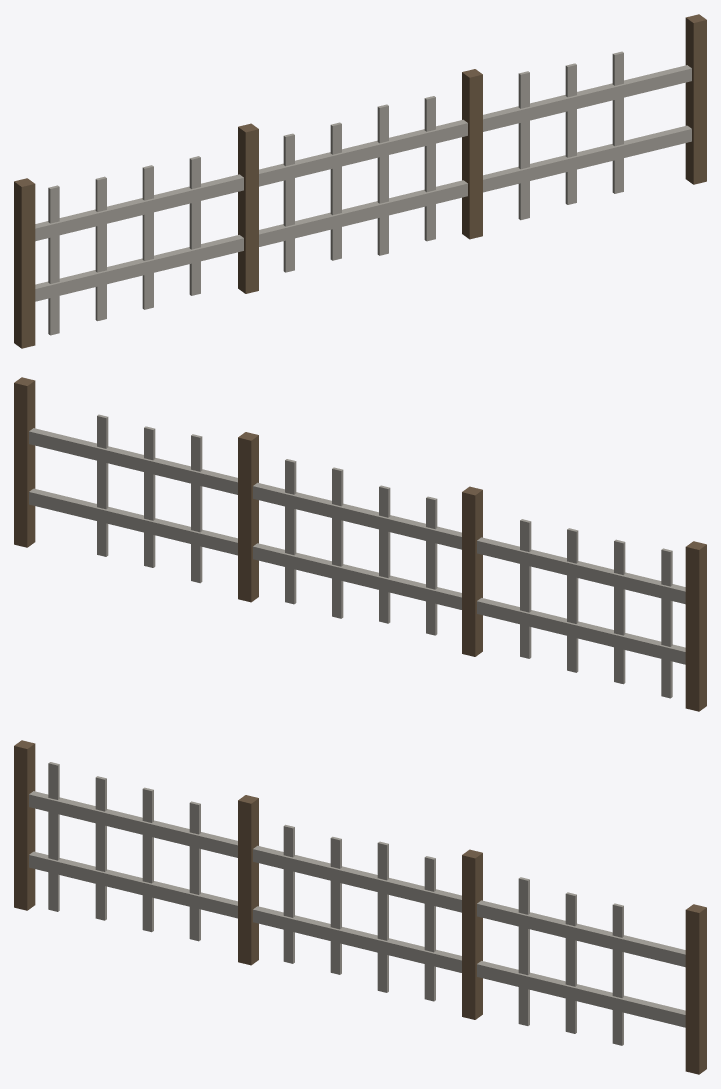
File: LL_Fence_4m.fbx
The picture shows the model from 3 angles, top to bottom: view 1: azimuth 30°, elevation 25°; view 2: azimuth 150°, elevation 25°; view 3: azimuth 330°, elevation 25°; orthographic projection.
Visible parts, largest first — view 1: LL_Fence_Rail_High, LL_Fence_Rail_Low, LL_Fence_Post_0, LL_Fence_Post_3, LL_Fence_Post_1, LL_Fence_Post_2, LL_Fence_Picket_07, LL_Fence_Picket_00, LL_Fence_Picket_10, LL_Fence_Picket_08, LL_Fence_Picket_02, LL_Fence_Picket_01 (+5 smaller); view 2: LL_Fence_Rail_High, LL_Fence_Rail_Low, LL_Fence_Post_0, LL_Fence_Post_3, LL_Fence_Post_1, LL_Fence_Post_2, LL_Fence_Picket_07, LL_Fence_Picket_00, LL_Fence_Picket_10, LL_Fence_Picket_08, LL_Fence_Picket_02, LL_Fence_Picket_01 (+5 smaller); view 3: LL_Fence_Rail_High, LL_Fence_Rail_Low, LL_Fence_Post_3, LL_Fence_Post_0, LL_Fence_Post_1, LL_Fence_Post_2, LL_Fence_Picket_07, LL_Fence_Picket_00, LL_Fence_Picket_10, LL_Fence_Picket_08, LL_Fence_Picket_01, LL_Fence_Picket_02 (+5 smaller).
Part boxes in pixels (x1,y1,x2,y2): LL_Fence_Rail_High: (35, 65, 691, 241); LL_Fence_Rail_Low: (35, 125, 691, 301); LL_Fence_Post_0: (14, 178, 35, 348); LL_Fence_Post_3: (685, 14, 706, 184); LL_Fence_Post_1: (238, 123, 258, 293); LL_Fence_Post_2: (462, 69, 482, 239); LL_Fence_Picket_07: (377, 104, 388, 255); LL_Fence_Picket_00: (48, 185, 59, 335); LL_Fence_Picket_10: (518, 71, 529, 220); LL_Fence_Picket_08: (424, 96, 435, 241); LL_Fence_Picket_02: (142, 165, 153, 309); LL_Fence_Picket_01: (95, 176, 106, 321); LL_Fence_Rail_High: (29, 428, 685, 604); LL_Fence_Rail_Low: (29, 488, 685, 664); LL_Fence_Post_0: (685, 541, 706, 711); LL_Fence_Post_3: (14, 377, 35, 547); LL_Fence_Post_1: (462, 486, 482, 656); LL_Fence_Post_2: (238, 432, 258, 602); LL_Fence_Picket_07: (332, 467, 343, 618); LL_Fence_Picket_00: (661, 548, 672, 698); LL_Fence_Picket_10: (191, 434, 202, 583); LL_Fence_Picket_08: (285, 459, 296, 604); LL_Fence_Picket_02: (567, 528, 578, 672); LL_Fence_Picket_01: (614, 539, 625, 684); LL_Fence_Rail_High: (29, 791, 685, 967); LL_Fence_Rail_Low: (29, 851, 685, 1027); LL_Fence_Post_3: (685, 904, 706, 1074); LL_Fence_Post_0: (14, 740, 35, 910); LL_Fence_Post_1: (238, 795, 258, 965); LL_Fence_Post_2: (462, 849, 482, 1019); LL_Fence_Picket_07: (377, 841, 388, 992); LL_Fence_Picket_00: (48, 762, 59, 911); LL_Fence_Picket_10: (518, 877, 529, 1025); LL_Fence_Picket_08: (424, 856, 435, 1001); LL_Fence_Picket_01: (95, 776, 106, 920); LL_Fence_Picket_02: (142, 787, 153, 932).
Size of the model in its own units: 5.1 by 1.15 by 0.1.
